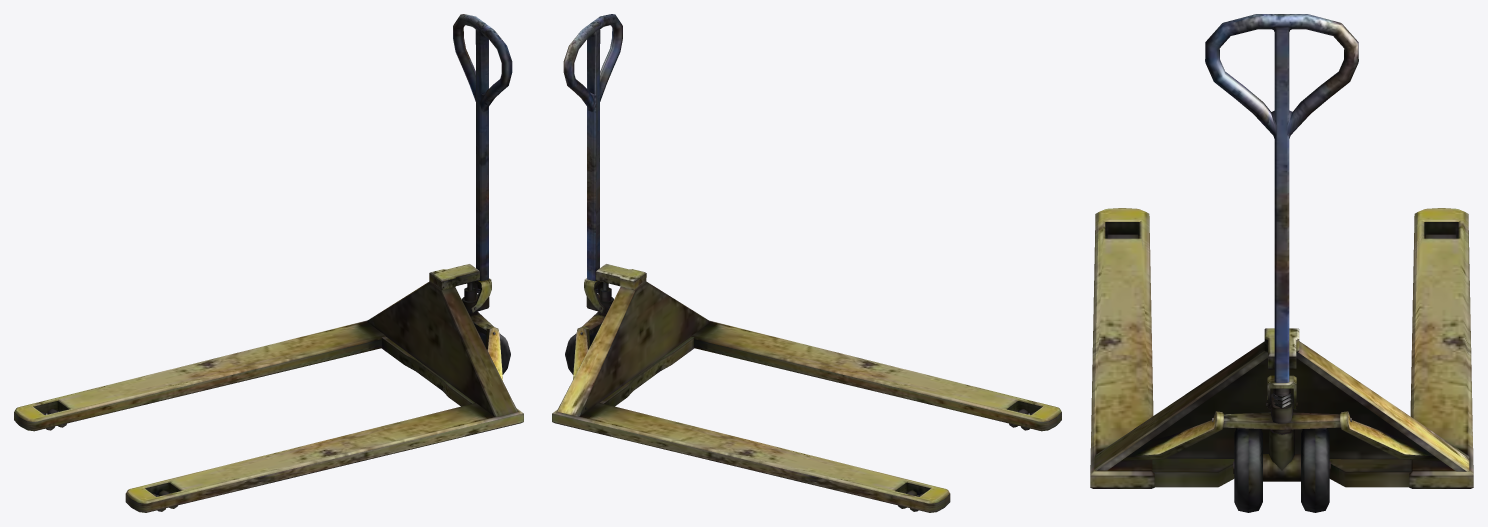
Rendered from handtruck.glb.
3 views of the same model, side by side, from view 1: azimuth 30°, elevation 25°; view 2: azimuth 150°, elevation 25°; view 3: azimuth 270°, elevation 25° (orthographic). The views are drawn at different scales.
Parts seen in each view (by area): view 1: 0_HandTruck; view 2: 0_HandTruck; view 3: 0_HandTruck.
Boxes of the visible parts, bbox=[...] form: 0_HandTruck: bbox=[14, 14, 523, 512]; 0_HandTruck: bbox=[552, 14, 1061, 512]; 0_HandTruck: bbox=[1090, 14, 1473, 512].
Size of the model in its own units: 2.04 by 1.63 by 1.12.
Materials: 1 (1 with a texture image).
